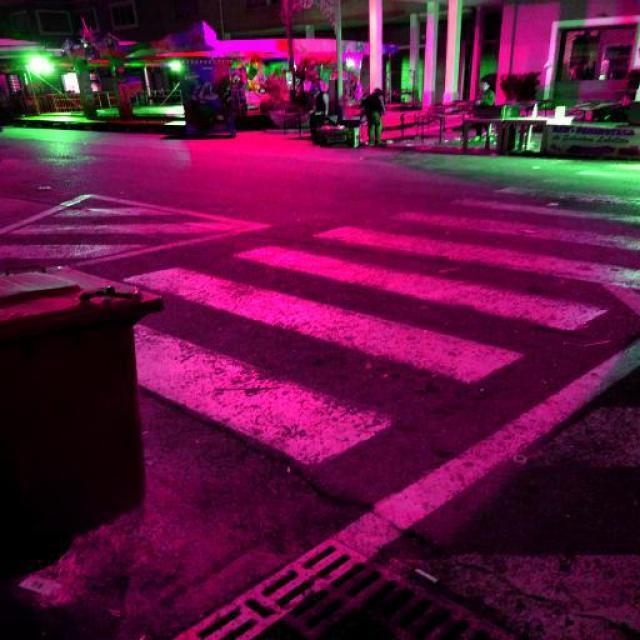crosswalk: (119, 181, 639, 479)
